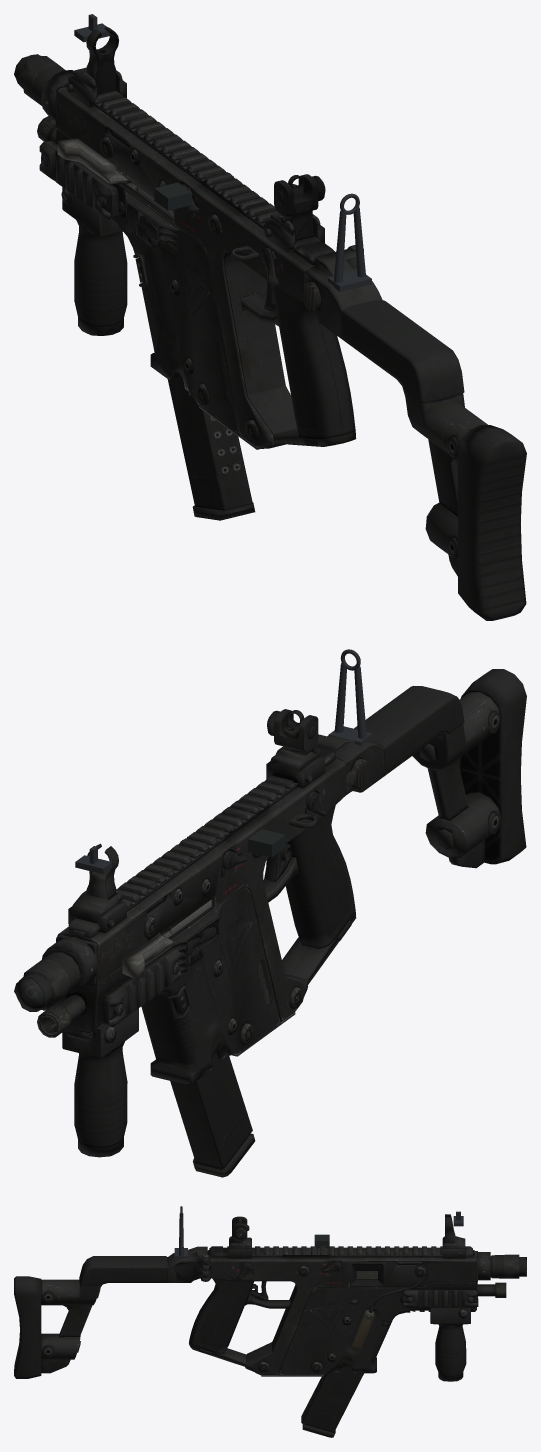
3 renders of one model, top to bottom at view 1: azimuth 30°, elevation 25°; view 2: azimuth 150°, elevation 25°; view 3: azimuth 270°, elevation 25°, orthographic. The views are drawn at different scales.
Visible parts, largest first — view 1: body, mag, rearsight, charge; view 2: body, mag, rearsight, charge; view 3: body, mag, rearsight.
Part boxes in pixels (bbox=[...]): body: bbox=[14, 14, 526, 620]; mag: bbox=[167, 373, 255, 520]; rearsight: bbox=[328, 193, 371, 291]; charge: bbox=[154, 182, 191, 210]; body: bbox=[14, 669, 526, 1157]; mag: bbox=[170, 1052, 255, 1177]; rearsight: bbox=[328, 649, 372, 745]; charge: bbox=[248, 829, 285, 857]; body: bbox=[14, 1211, 526, 1381]; mag: bbox=[301, 1366, 363, 1437]; rearsight: bbox=[174, 1206, 187, 1259].
Size of the model in its own units: 0.073 by 0.3031 by 0.62.
3 materials, 1 textured.
